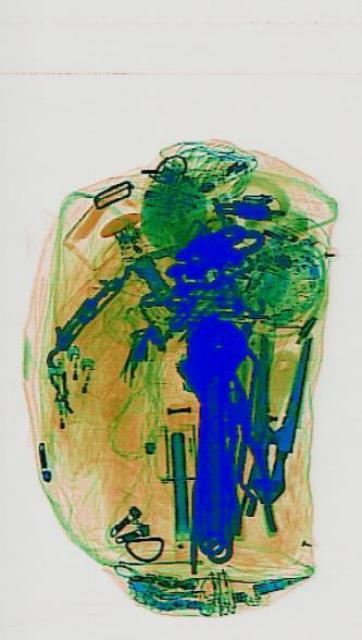Pliers: (236, 316, 309, 512)
